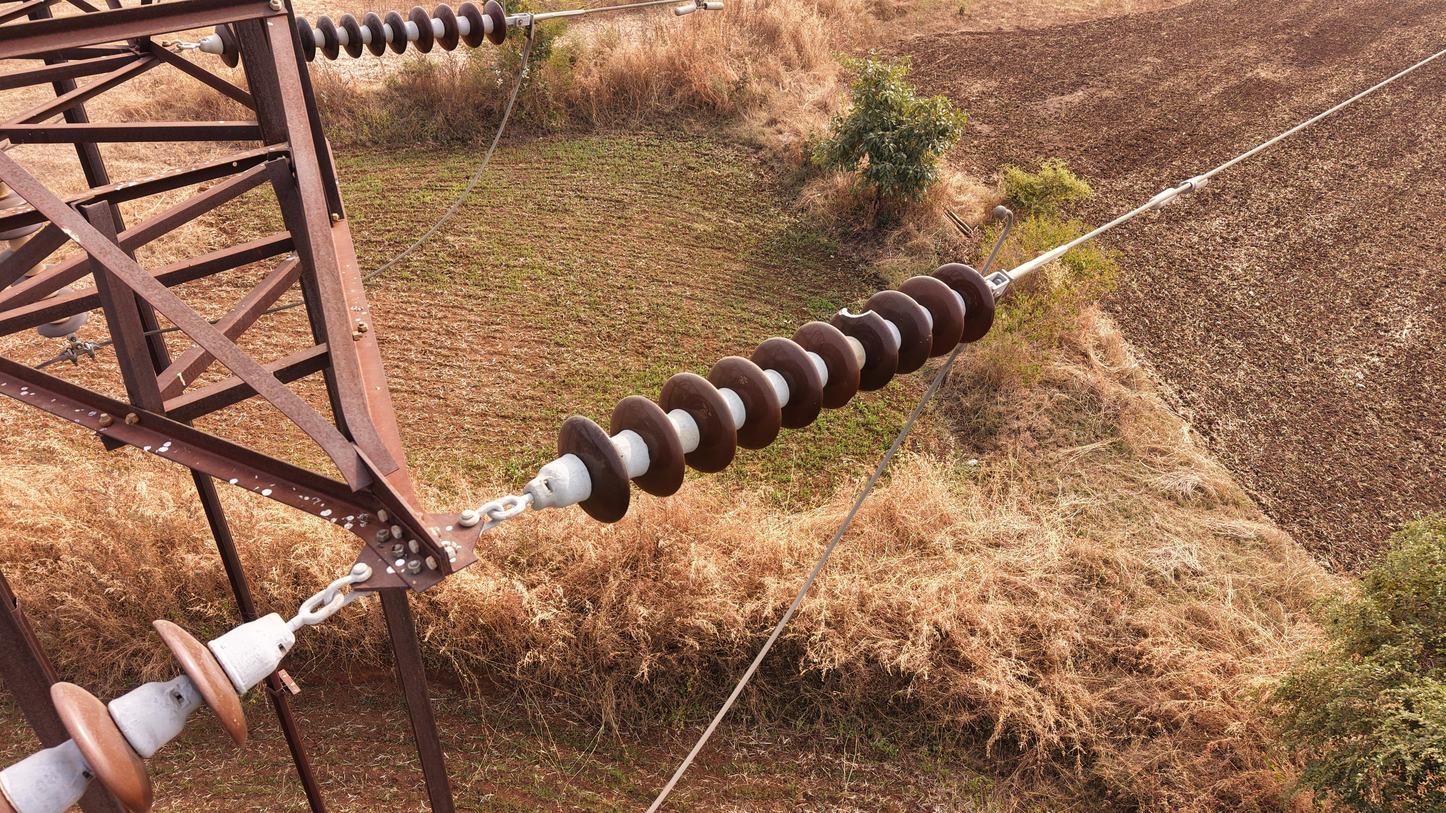broken_insulator: (821, 300, 900, 336)
